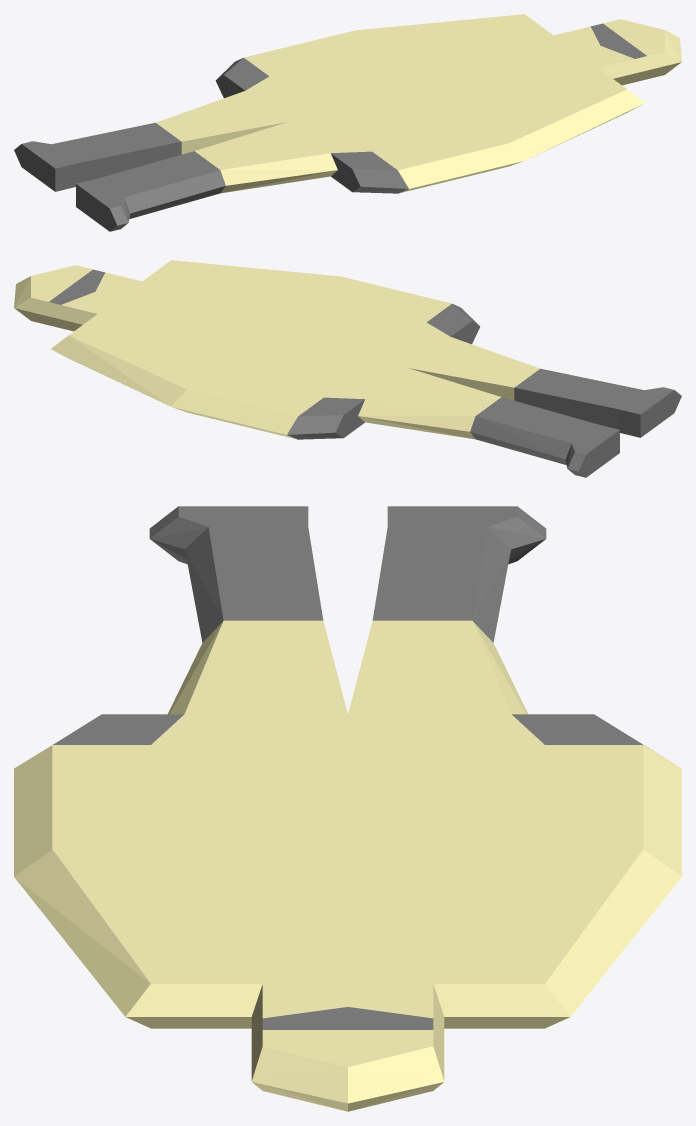
File: HazmatSuit.fbx
The picture shows the model from 3 angles, top to bottom: view 1: azimuth 30°, elevation 25°; view 2: azimuth 150°, elevation 25°; view 3: azimuth 270°, elevation 25°; orthographic projection. The views are drawn at different scales.
Visible parts, largest first — view 1: HazmatSuit; view 2: HazmatSuit; view 3: HazmatSuit.
Boxes of the visible parts, <box> form: HazmatSuit: <box>14,14,681,231</box>; HazmatSuit: <box>14,260,681,477</box>; HazmatSuit: <box>14,506,681,1111</box>.
Bounding box in the file's own units: 0.2762 × 0.01 × 0.1356.
